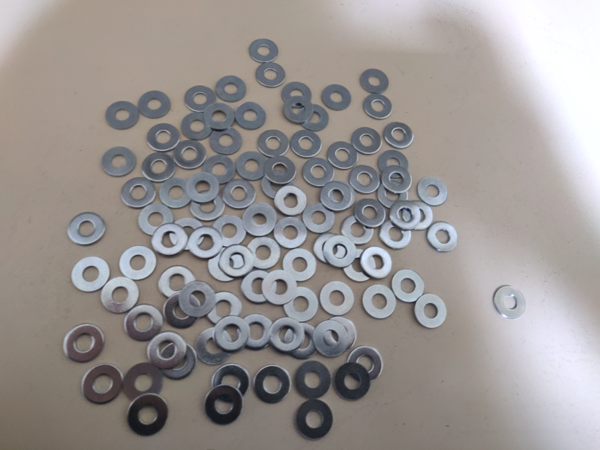circle: (128, 394, 167, 437), (64, 324, 105, 364), (83, 364, 123, 404), (204, 385, 243, 426), (124, 363, 163, 403), (212, 364, 251, 403), (147, 332, 187, 370), (124, 304, 164, 342), (296, 400, 333, 440), (70, 257, 111, 293), (101, 278, 140, 315), (159, 343, 198, 380), (255, 365, 291, 404), (295, 362, 331, 399), (313, 321, 349, 358), (164, 292, 201, 328), (213, 316, 250, 352), (196, 328, 232, 365), (178, 282, 216, 317), (347, 348, 383, 384), (239, 315, 275, 351), (335, 364, 370, 401), (120, 246, 157, 281), (208, 246, 243, 283), (283, 288, 319, 323), (68, 212, 106, 245), (158, 266, 196, 299), (320, 282, 355, 317), (270, 318, 305, 353), (188, 225, 223, 260), (363, 284, 397, 320), (152, 224, 188, 258), (284, 324, 318, 360), (263, 271, 297, 306), (207, 292, 242, 326), (243, 203, 277, 237), (212, 215, 247, 248), (139, 205, 174, 238), (242, 271, 278, 303), (322, 318, 358, 350), (415, 294, 447, 329), (392, 270, 425, 303), (284, 250, 317, 283), (248, 237, 281, 270), (324, 235, 356, 269), (344, 249, 376, 283), (191, 190, 225, 222), (101, 147, 137, 177), (494, 286, 526, 319), (275, 217, 308, 249), (187, 172, 220, 204), (122, 177, 156, 208), (361, 246, 393, 278), (275, 185, 307, 217), (314, 233, 347, 264), (342, 215, 374, 246), (209, 126, 242, 156), (106, 101, 139, 131), (223, 180, 256, 210), (427, 222, 458, 253), (174, 140, 206, 170), (303, 158, 335, 188), (417, 177, 448, 207), (390, 200, 421, 230), (355, 199, 386, 229), (403, 200, 434, 230), (304, 203, 335, 233), (381, 220, 411, 251), (160, 179, 192, 208), (147, 124, 180, 152), (142, 153, 175, 181), (350, 165, 381, 194), (382, 165, 413, 194), (265, 156, 296, 185), (262, 170, 293, 199), (182, 111, 213, 140), (258, 130, 290, 158), (203, 103, 235, 131), (138, 91, 170, 119), (204, 156, 236, 184), (379, 150, 409, 179), (325, 181, 355, 210), (327, 142, 358, 170), (378, 181, 409, 209), (281, 82, 312, 110), (291, 130, 322, 158), (322, 182, 351, 211), (236, 152, 265, 181), (236, 103, 266, 131), (283, 97, 314, 124), (185, 86, 217, 112), (322, 84, 352, 111), (300, 104, 330, 131), (216, 76, 246, 103), (383, 123, 414, 149), (363, 94, 393, 120), (257, 62, 286, 88), (353, 128, 382, 154), (361, 69, 389, 94), (249, 39, 279, 62)
